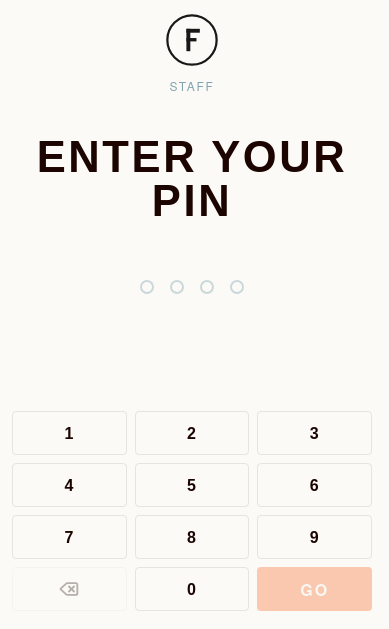
Scenario: LoginForm › displays a fallback error when the action throws
The width and height of the screenshot is (389, 629).
Click the button "1" at [69, 433], box [12,411,127,455]
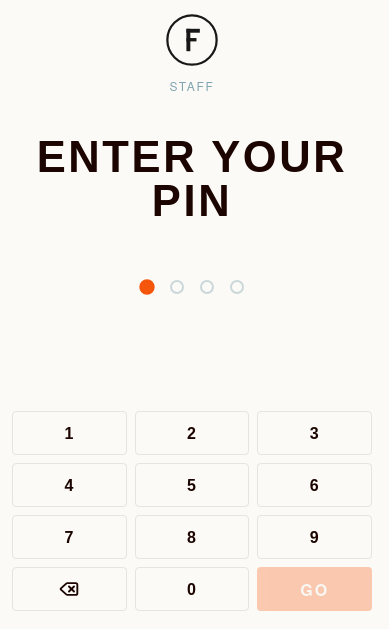
Click the button "2" at [192, 433], box [135,411,249,455]
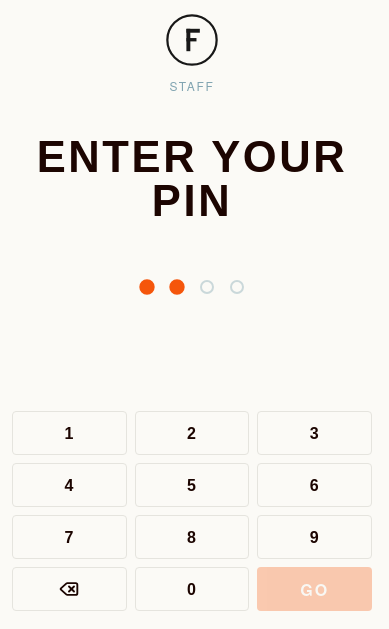
Click the button "3" at [315, 433], box [257,411,372,455]
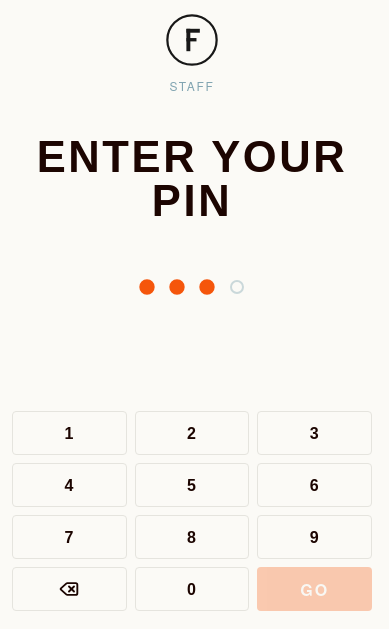
Click the button "4" at [69, 485], box [12,463,127,507]
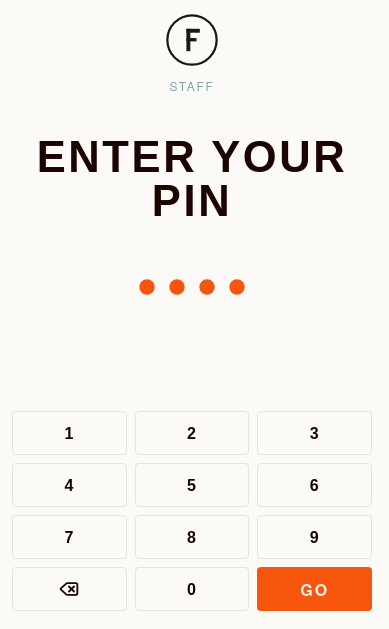
Click the button with aria-label "Confirm PIN" at [315, 589], box [257,567,372,611]
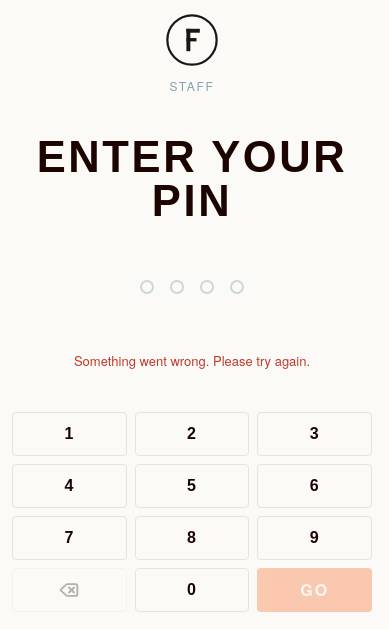
Now the message "Something went wrong. Please try again." is shown, box [74,351,310,372]
